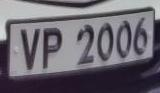0: (96, 18, 116, 67), (115, 15, 133, 64)
2: (73, 18, 97, 72)
6: (132, 14, 150, 62)
P: (41, 24, 66, 71)
V: (18, 25, 43, 72)
